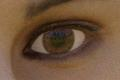eye: (45, 28, 73, 53)
